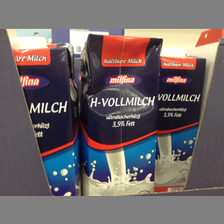milk: (78, 35, 158, 194), (6, 35, 78, 197), (155, 54, 202, 195)
